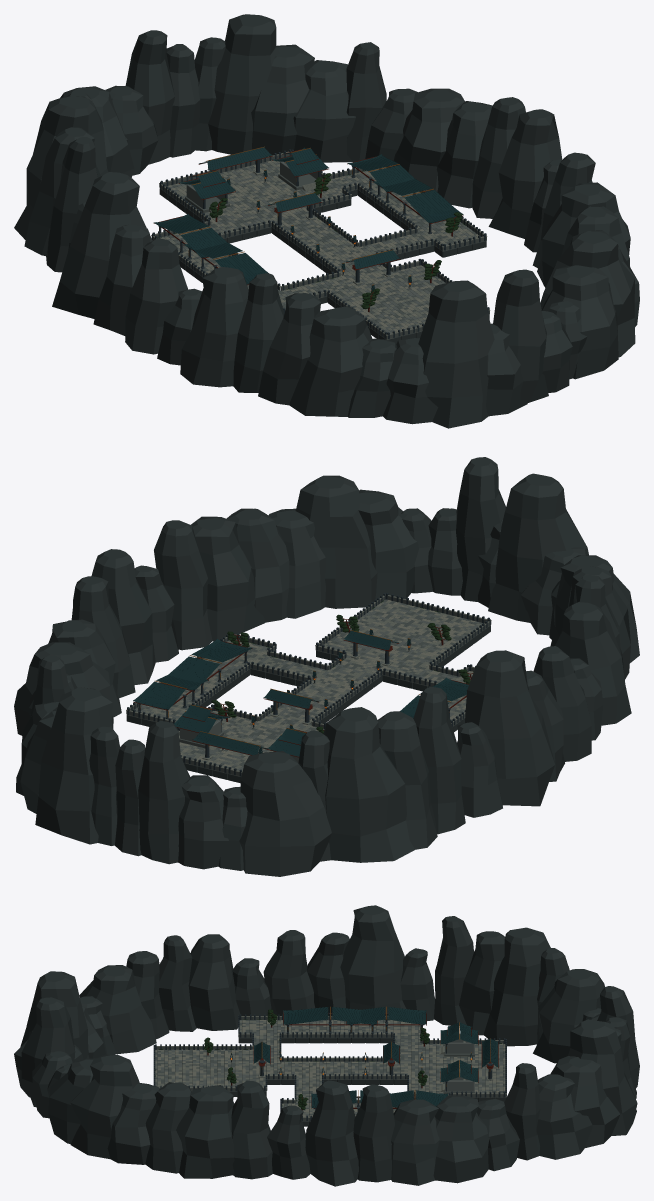
The model's file is temple.glb.
The picture shows the model from 3 angles, top to bottom: view 1: azimuth 30°, elevation 25°; view 2: azimuth 150°, elevation 25°; view 3: azimuth 270°, elevation 25°; orthographic projection. The views are drawn at different scales.
Parts seen in each view (by area): view 1: Karst_Horizon_Stratified_Cliff, Roof_Tiles_Jade_Glazed_Roof, Paved_Ground_Limestone_0, Paved_Ground_Limestone_1, Paved_Ground_Limestone_3, Paved_Ground_Limestone_2, Masonry_Carved_Basalt, Roof_Ribs_Jade_Glazed_Roof, Masonry_Limestone_2, Cliff_Foundations_Stratified_Cliff, Masonry_Limestone_1, Ancient_Trees_Moss_And_Fern (+2 smaller); view 2: Karst_Horizon_Stratified_Cliff, Roof_Tiles_Jade_Glazed_Roof, Paved_Ground_Limestone_1, Paved_Ground_Limestone_0, Paved_Ground_Limestone_2, Paved_Ground_Limestone_3, Masonry_Carved_Basalt, Roof_Ribs_Jade_Glazed_Roof, Cliff_Foundations_Stratified_Cliff, Masonry_Limestone_2, Masonry_Limestone_1, Ancient_Trees_Moss_And_Fern (+2 smaller); view 3: Karst_Horizon_Stratified_Cliff, Roof_Tiles_Jade_Glazed_Roof, Paved_Ground_Limestone_1, Paved_Ground_Limestone_0, Roof_Ribs_Jade_Glazed_Roof, Paved_Ground_Limestone_2, Paved_Ground_Limestone_3, Cliff_Foundations_Stratified_Cliff, Masonry_Carved_Basalt, Masonry_Limestone_2, Masonry_Limestone_1, Masonry_Limestone_0 (+3 smaller).
Part boxes in pixels (box(x1,y1,x2,y2)): Karst_Horizon_Stratified_Cliff: box(14, 14, 639, 428); Roof_Tiles_Jade_Glazed_Roof: box(154, 147, 463, 289); Paved_Ground_Limestone_0: box(163, 162, 482, 336); Paved_Ground_Limestone_1: box(160, 161, 477, 339); Paved_Ground_Limestone_3: box(162, 160, 478, 338); Paved_Ground_Limestone_2: box(158, 161, 489, 337); Masonry_Carved_Basalt: box(152, 149, 489, 338); Roof_Ribs_Jade_Glazed_Roof: box(153, 147, 463, 291); Masonry_Limestone_2: box(151, 153, 489, 339); Cliff_Foundations_Stratified_Cliff: box(152, 188, 489, 343); Masonry_Limestone_1: box(151, 151, 490, 335); Ancient_Trees_Moss_And_Fern: box(209, 173, 462, 308); Karst_Horizon_Stratified_Cliff: box(14, 457, 639, 876); Roof_Tiles_Jade_Glazed_Roof: box(133, 630, 468, 756); Paved_Ground_Limestone_1: box(141, 601, 488, 776); Paved_Ground_Limestone_0: box(134, 602, 479, 774); Paved_Ground_Limestone_2: box(127, 599, 482, 773); Paved_Ground_Limestone_3: box(130, 600, 484, 775); Masonry_Carved_Basalt: box(127, 593, 490, 776); Roof_Ribs_Jade_Glazed_Roof: box(133, 629, 468, 756); Cliff_Foundations_Stratified_Cliff: box(126, 625, 490, 783); Masonry_Limestone_2: box(126, 596, 491, 775); Masonry_Limestone_1: box(126, 594, 491, 772); Ancient_Trees_Moss_And_Fern: box(211, 614, 473, 733); Karst_Horizon_Stratified_Cliff: box(14, 905, 639, 1186); Roof_Tiles_Jade_Glazed_Roof: box(254, 1007, 498, 1107); Paved_Ground_Limestone_1: box(155, 1020, 505, 1116); Paved_Ground_Limestone_0: box(155, 1020, 506, 1121); Roof_Ribs_Jade_Glazed_Roof: box(230, 1007, 498, 1107); Paved_Ground_Limestone_2: box(155, 1020, 505, 1114); Paved_Ground_Limestone_3: box(155, 1020, 505, 1116); Cliff_Foundations_Stratified_Cliff: box(157, 1020, 506, 1126); Masonry_Carved_Basalt: box(153, 1014, 506, 1120); Masonry_Limestone_2: box(156, 1017, 506, 1120); Masonry_Limestone_1: box(156, 1016, 506, 1117); Masonry_Limestone_0: box(446, 1034, 473, 1091).
Size of the model in its own units: 195 by 48.62 by 266.
